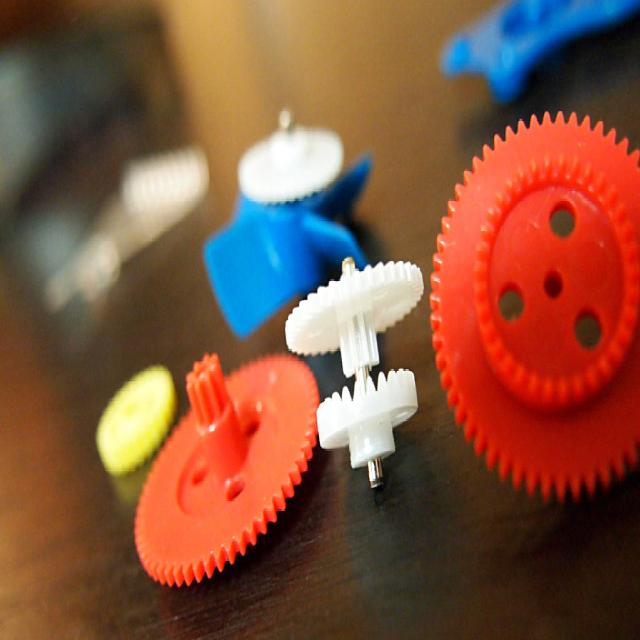Toy: (410, 116, 640, 486), (193, 100, 401, 338), (128, 342, 331, 558), (291, 247, 423, 478), (428, 0, 631, 91), (103, 367, 170, 462)
